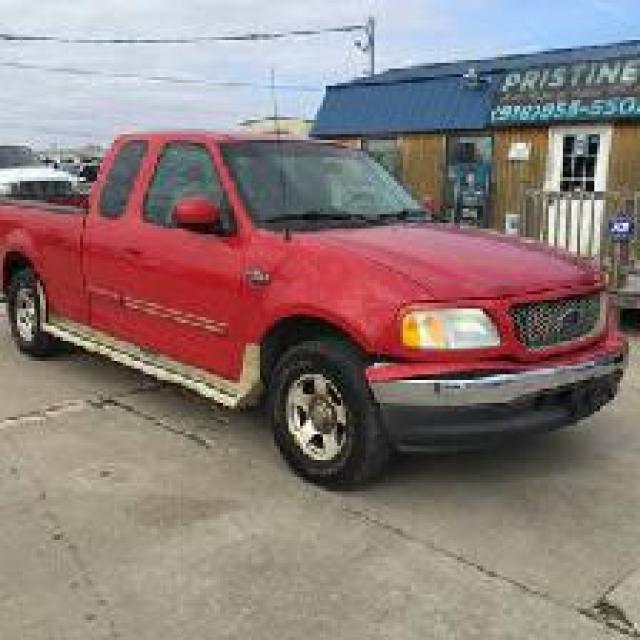damaged: (366, 352, 538, 397)
